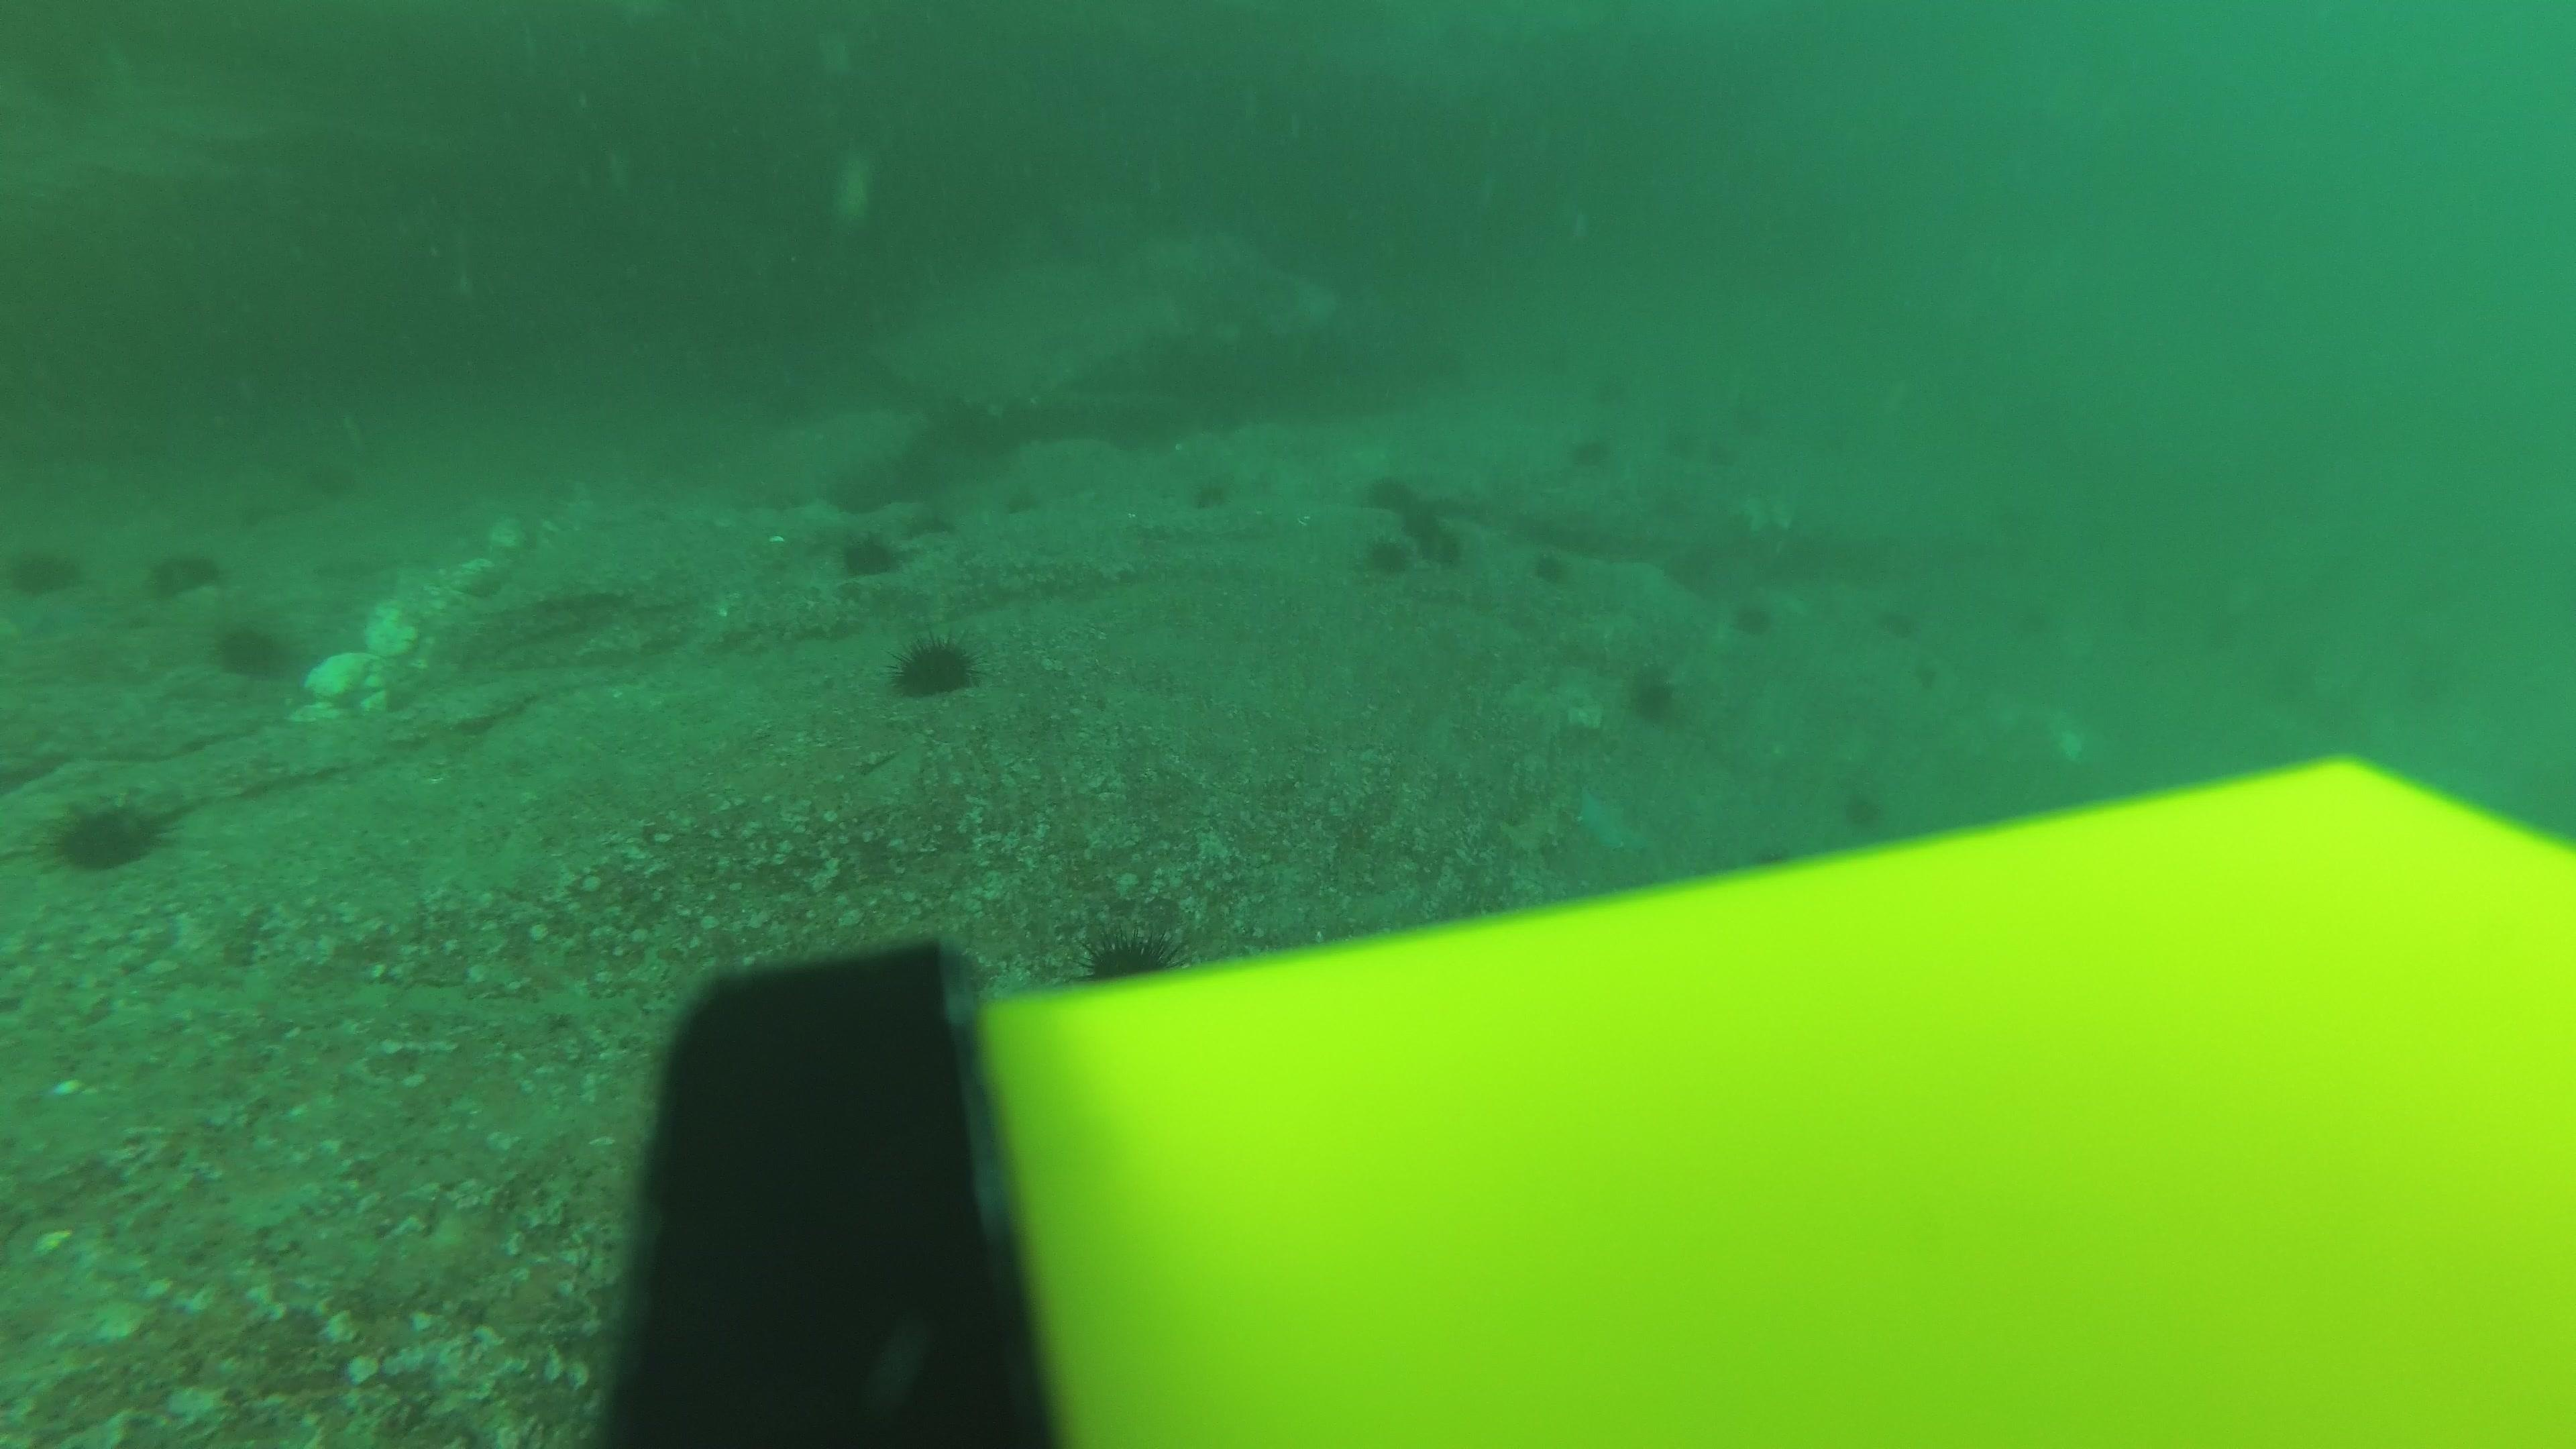echinus: (42, 789, 172, 878), (888, 628, 980, 701), (1081, 922, 1182, 985), (211, 612, 294, 681), (1355, 511, 1431, 580), (5, 536, 83, 600), (147, 541, 223, 600), (1622, 662, 1684, 727), (835, 525, 902, 580), (1870, 596, 1921, 644), (1361, 472, 1414, 518), (1185, 467, 1238, 513), (1562, 433, 1615, 479), (1732, 395, 1785, 441), (1665, 418, 1718, 464), (1729, 594, 1778, 642), (1389, 492, 1440, 538), (1412, 522, 1463, 568), (1525, 543, 1576, 589), (1700, 432, 1752, 478), (1644, 485, 1695, 531), (1674, 538, 1725, 584), (1582, 370, 1633, 416), (1840, 786, 1891, 832), (1746, 832, 1798, 878), (1900, 651, 1951, 697), (2013, 602, 2065, 648), (993, 476, 1044, 522), (904, 508, 957, 552)
holothurian: (1481, 801, 1573, 860)
starfish: (1569, 782, 1652, 858)
